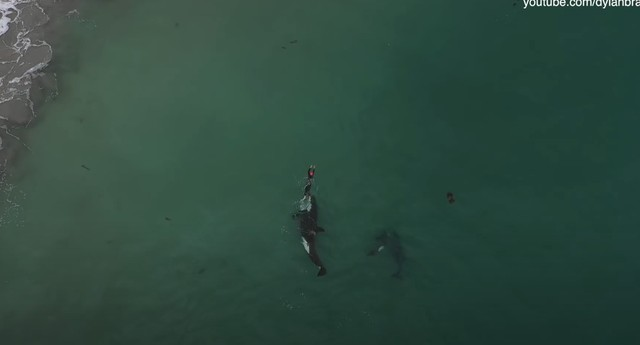whale: (290, 189, 333, 280), (385, 224, 409, 283)
